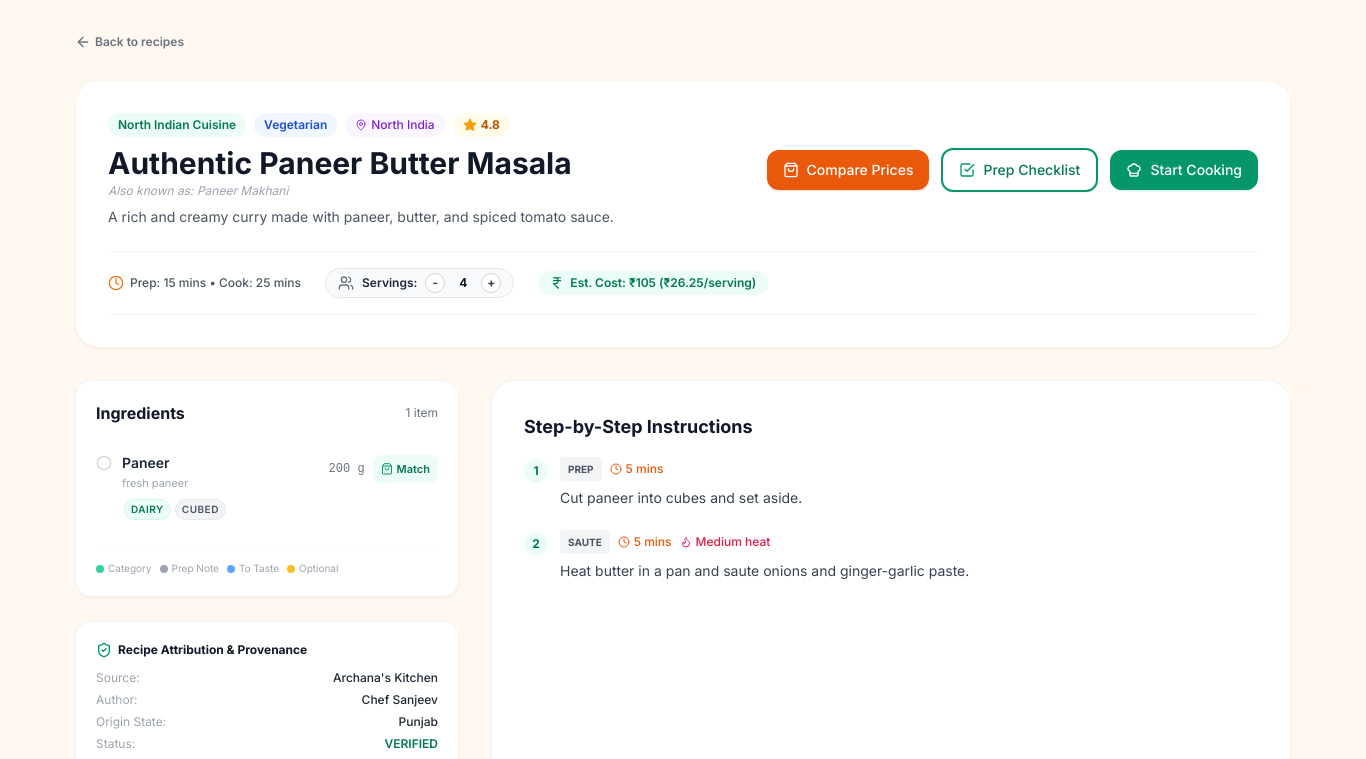
RecipeDetailPage Component › adjusts servings up and down and updates Compare Prices link
The width and height of the screenshot is (1366, 759).
Expected: the text with test id "serving-count" reads "4", 459,275 -> 467,290
Note: Increase servings to 5
Click the button with test id "increase-servings" at (491, 283), box 481,273 -> 501,293
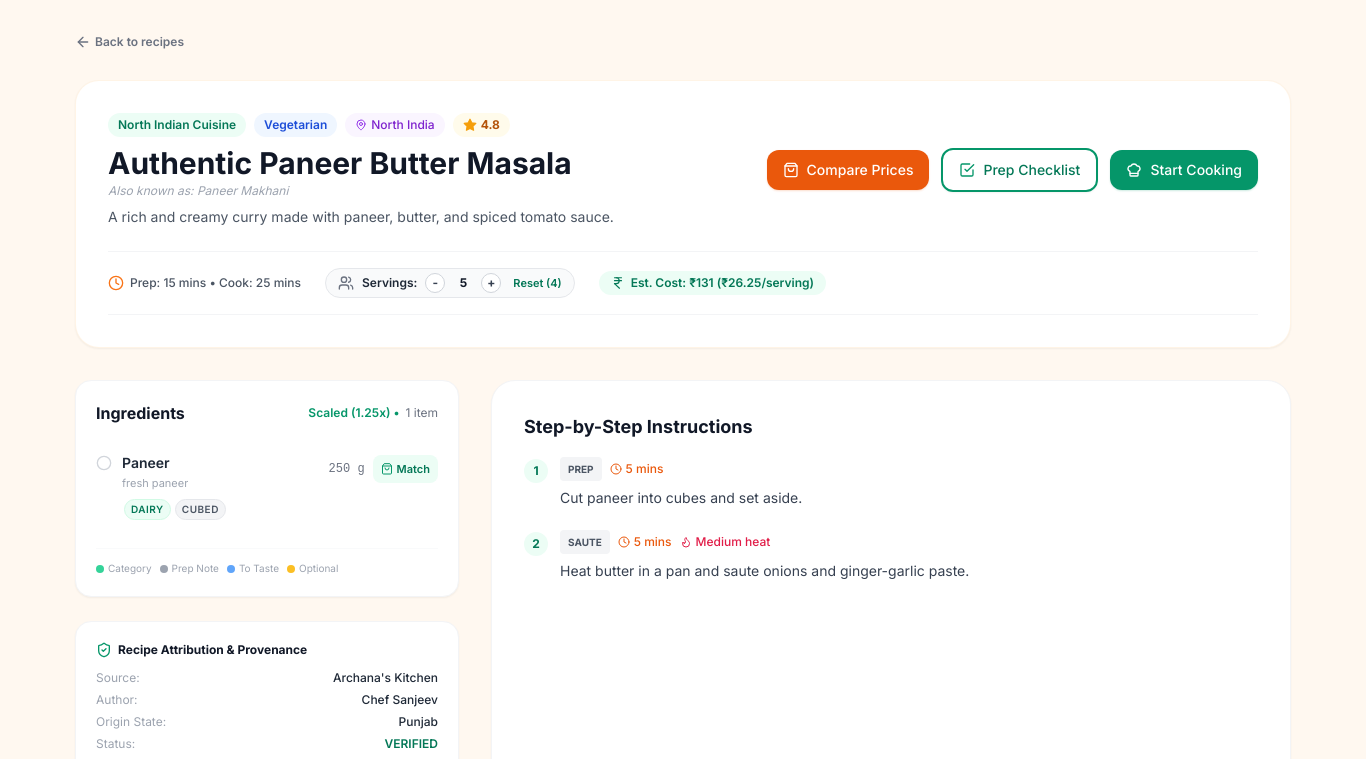
Now the text with test id "serving-count" reads "5", box 460,275 -> 467,290
Now the button with test id "reset-servings" is shown
Click the button with test id "reset-servings" at (538, 283), box 513,275 -> 562,291
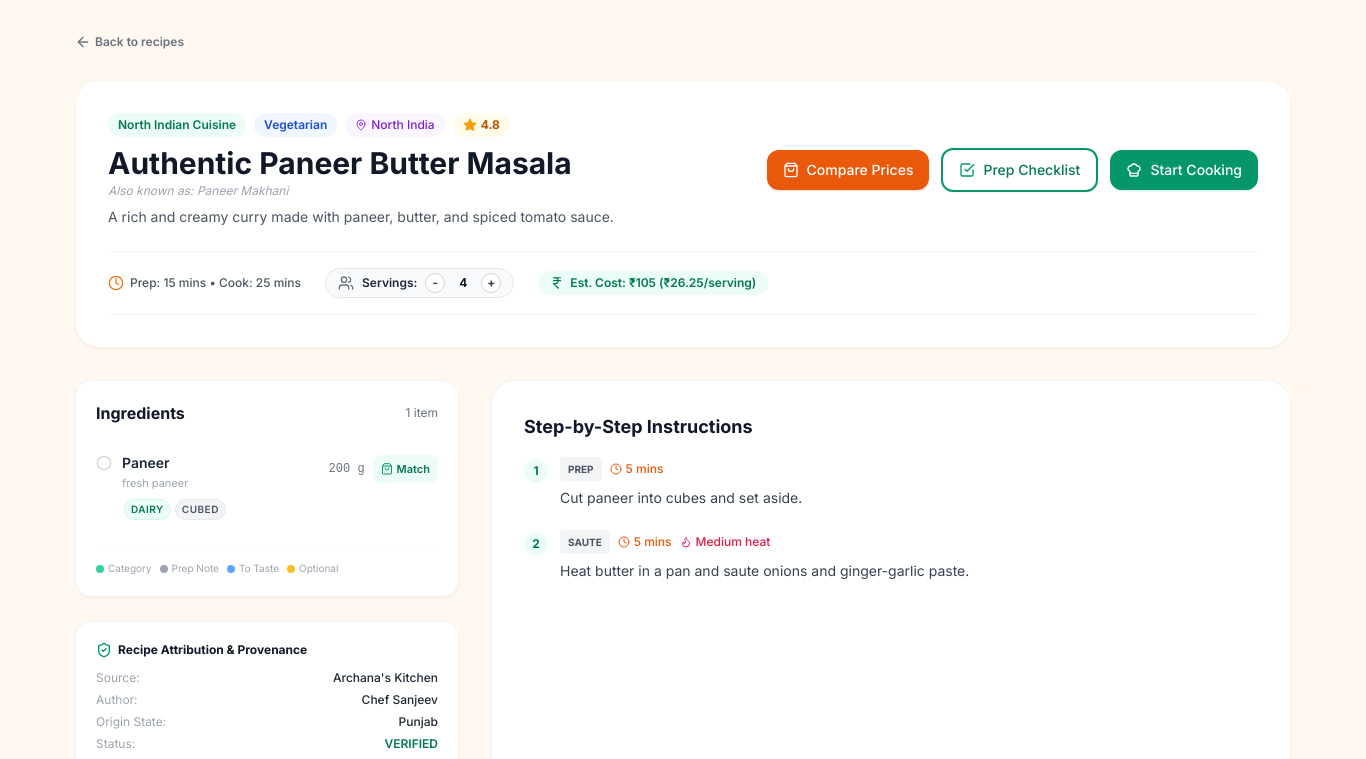
Now the text with test id "serving-count" reads "4", box 459,275 -> 467,290
Now the button with test id "reset-servings" is gone
